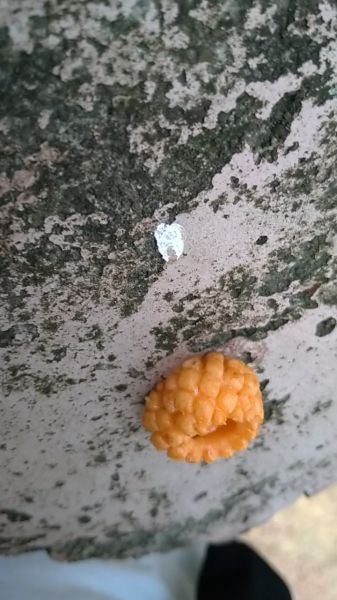eggs: (133, 344, 271, 475)
